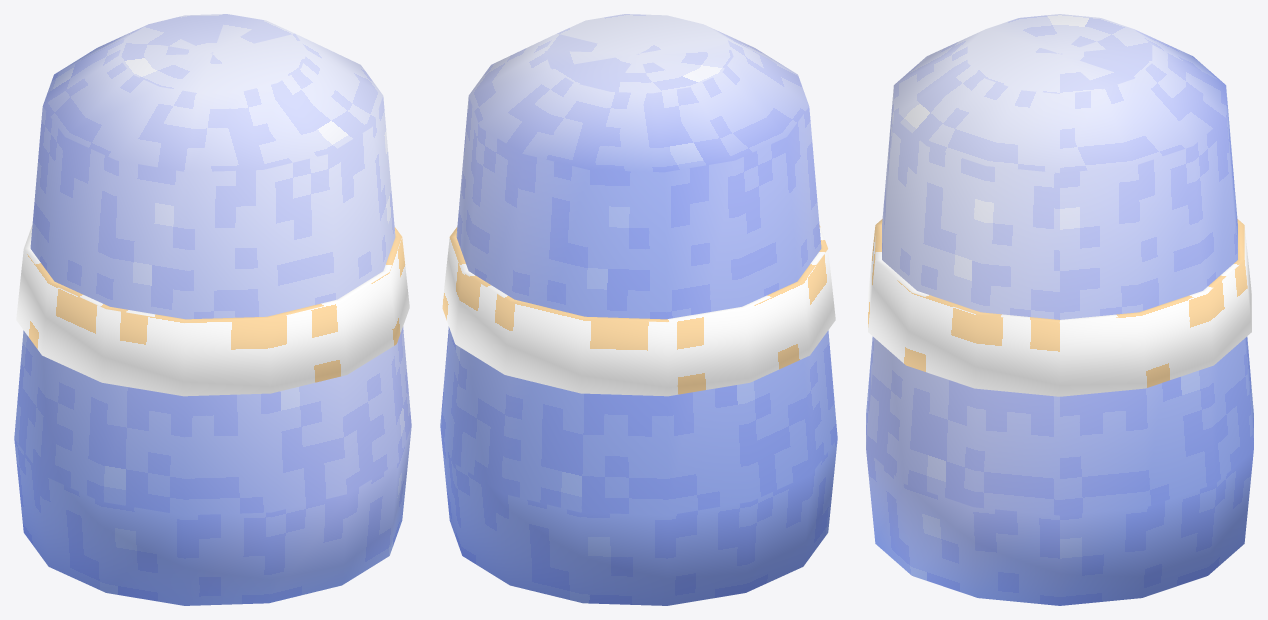
Rendered from furn.hearth.glb.
3 views of the same model, side by side, from view 1: azimuth 30°, elevation 25°; view 2: azimuth 150°, elevation 25°; view 3: azimuth 270°, elevation 25° (orthographic).
Parts seen in each view (by area): view 1: kit_hearth_body, kit_fire; view 2: kit_hearth_body, kit_fire; view 3: kit_hearth_body, kit_fire.
Part boxes in pixels (left/top/right/bottom): kit_hearth_body: left=14, top=14, right=411, bottom=605; kit_fire: left=16, top=224, right=409, bottom=396; kit_hearth_body: left=440, top=14, right=837, bottom=605; kit_fire: left=442, top=224, right=835, bottom=396; kit_hearth_body: left=866, top=14, right=1253, bottom=605; kit_fire: left=868, top=219, right=1251, bottom=396.
Size of the model in its own units: 0.84 by 1.1 by 0.8189.
2 materials, 2 textured.
